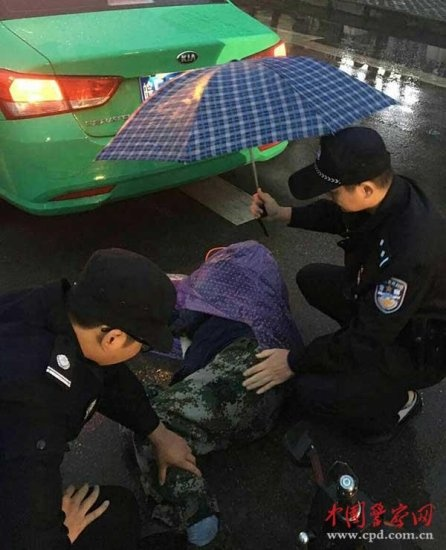falling: (122, 224, 322, 510)
